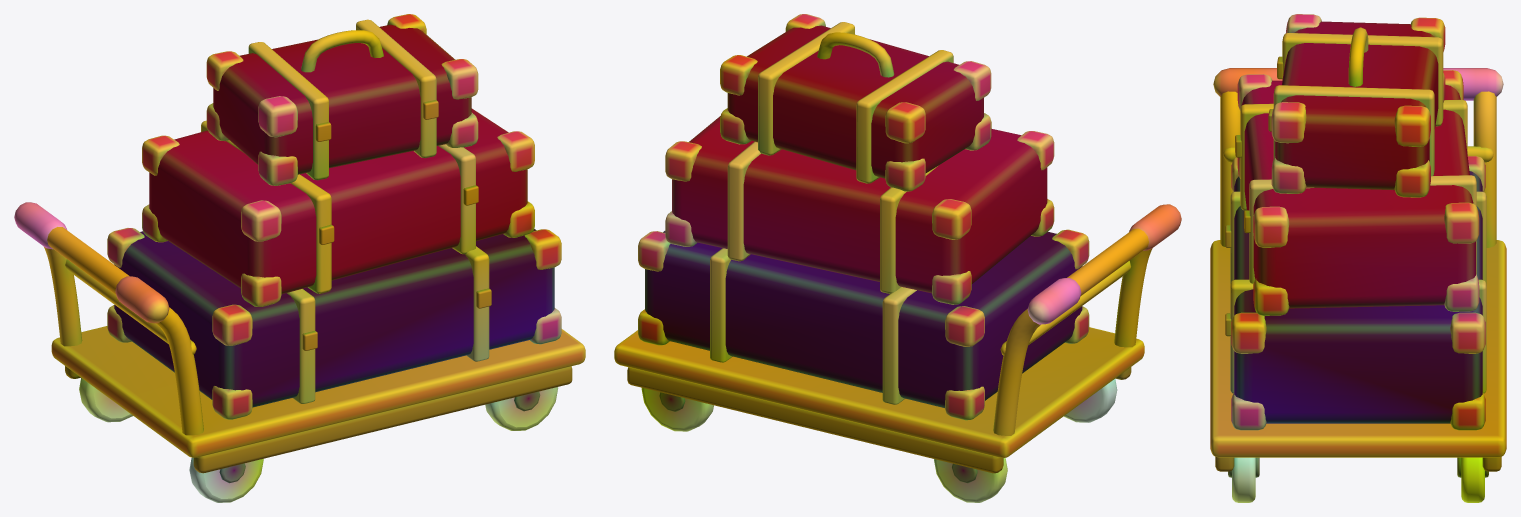
File: BaggageTrolley.fbx
3 views of the same model, side by side, from view 1: azimuth 30°, elevation 25°; view 2: azimuth 150°, elevation 25°; view 3: azimuth 270°, elevation 25° (orthographic). The views are drawn at different scales.
Parts seen in each view (by area): view 1: Trolley; view 2: Trolley; view 3: Trolley.
Boxes of the visible parts, box(x1,y1,x2,y2) form: Trolley: box(14, 14, 585, 502); Trolley: box(614, 14, 1181, 502); Trolley: box(1210, 14, 1506, 502).
Size of the model in its own units: 1.1 by 0.927 by 0.62.
